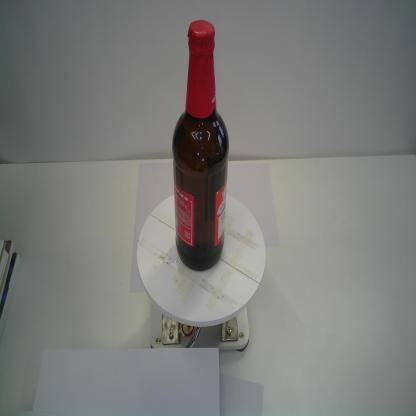Alcohol: (170, 18, 230, 273)
